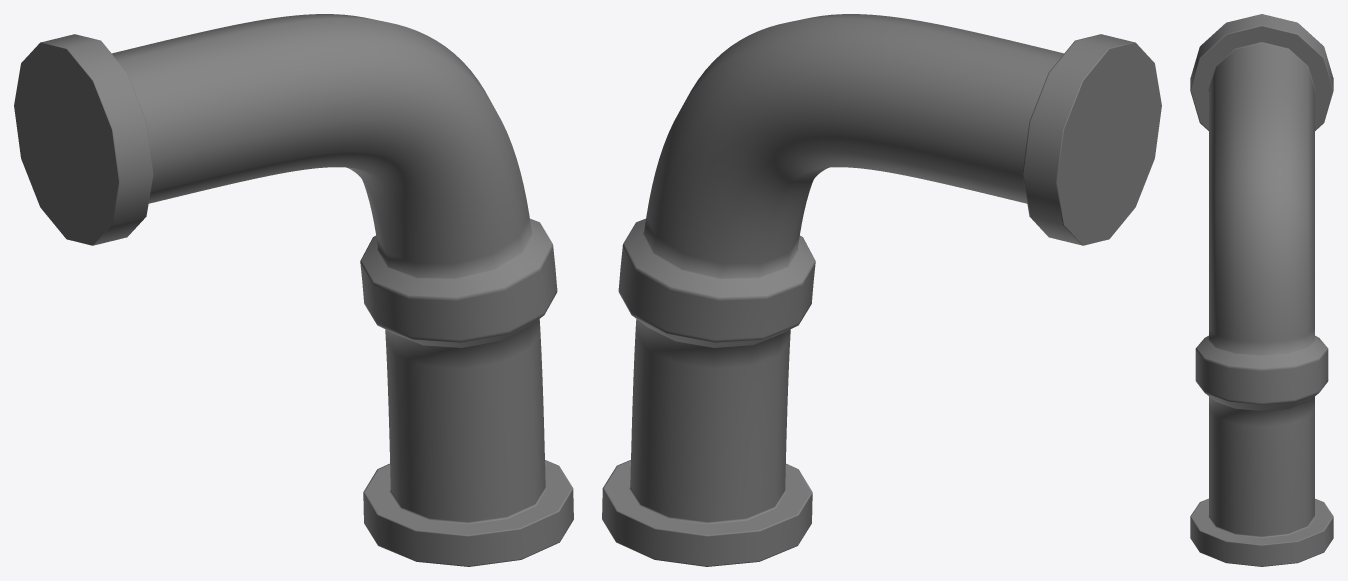
File: Pipe_04.fbx
3 renders of one model, left to right at view 1: azimuth 30°, elevation 25°; view 2: azimuth 150°, elevation 25°; view 3: azimuth 270°, elevation 25°, orthographic. The views are drawn at different scales.
Parts seen in each view (by area): view 1: Pipe_04; view 2: Pipe_04; view 3: Pipe_04.
Part boxes in pixels (x1,y1,x2,y2): Pipe_04: (14,14,573,566); Pipe_04: (602,14,1161,566); Pipe_04: (1190,14,1333,566).
Size of the model in its own units: 80.06 by 88.84 by 29.51.
